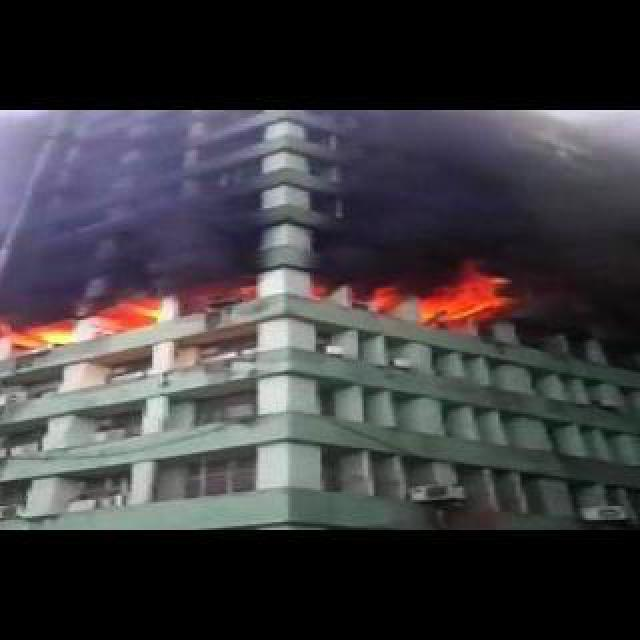Fire: (312, 258, 524, 322), (10, 292, 178, 354)
Smoke: (2, 156, 250, 312)
